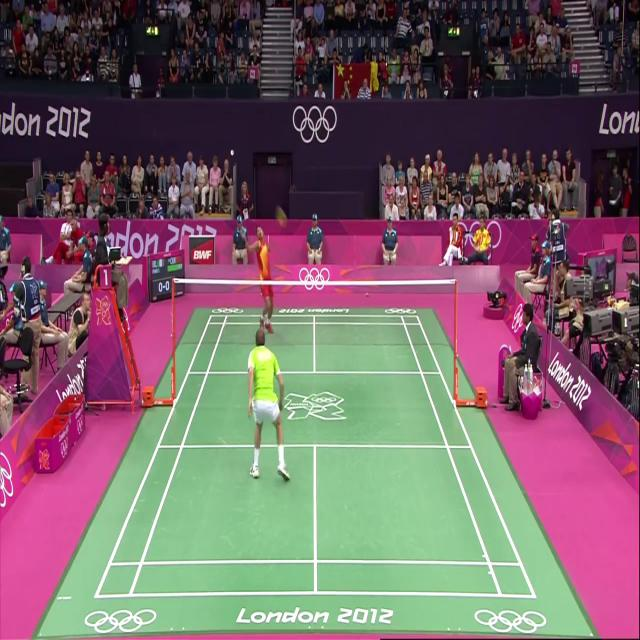Net: (174, 278, 458, 379)
Player1: (228, 329, 298, 522)
Player2: (242, 230, 282, 361)
Shuttlecock: (222, 141, 240, 165)
